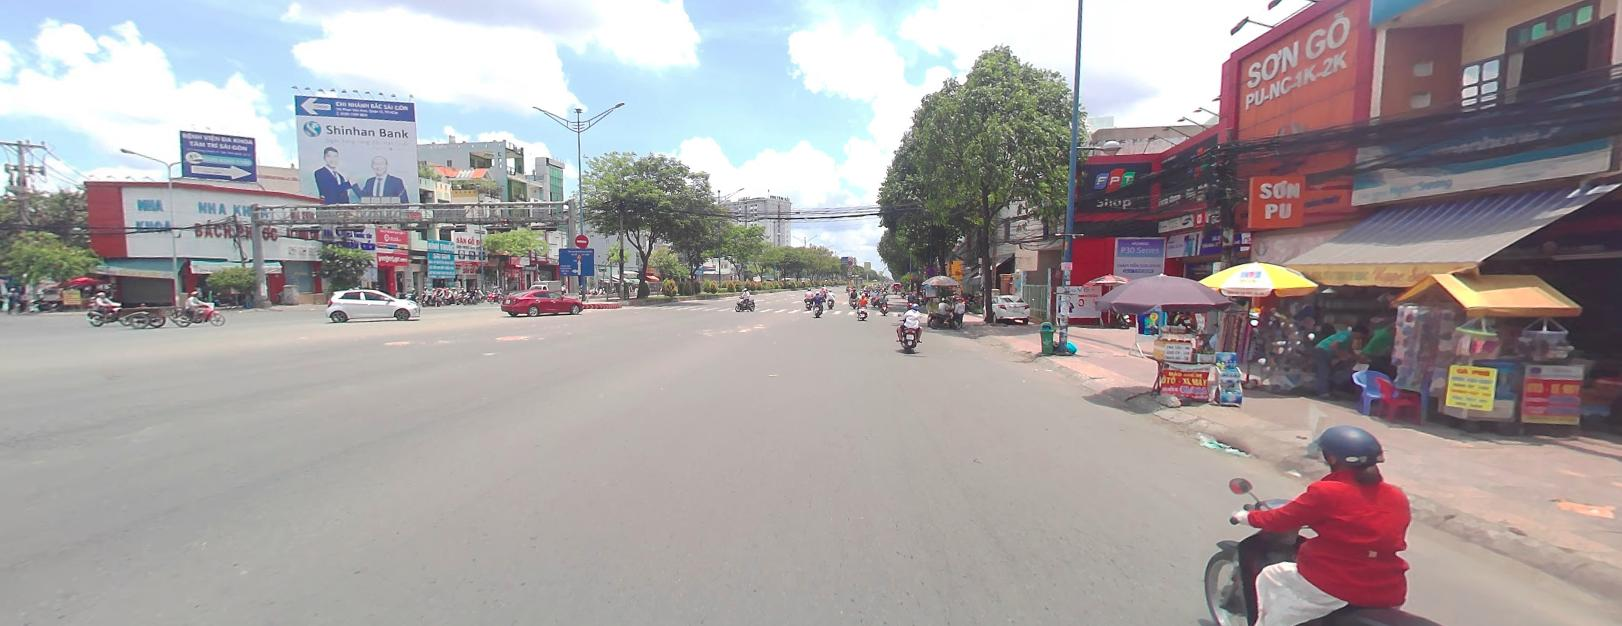Cam dung va do: (925, 264, 936, 275), (926, 264, 937, 274)
Cam nguoc chieu: (574, 232, 589, 246), (574, 232, 588, 246)
Nguy hiem: (907, 272, 913, 277)
